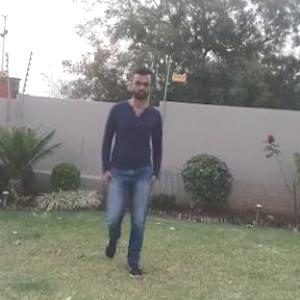follow: (104, 70, 158, 268)
